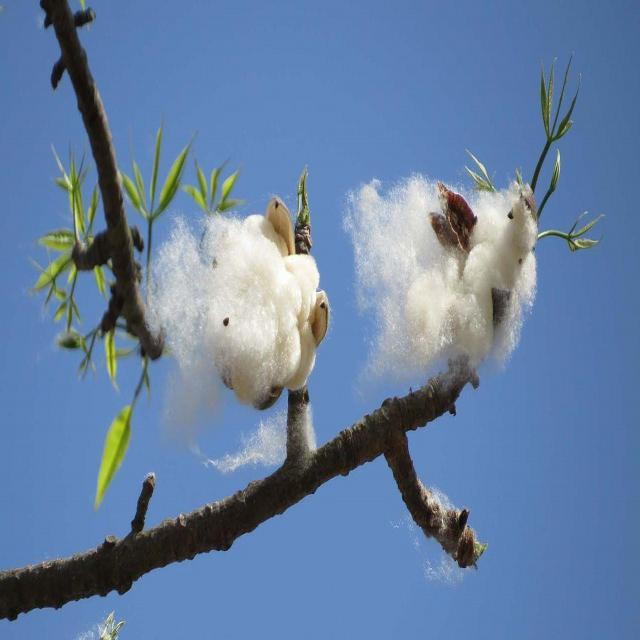Early_blight: (134, 205, 343, 484), (330, 156, 546, 402)
